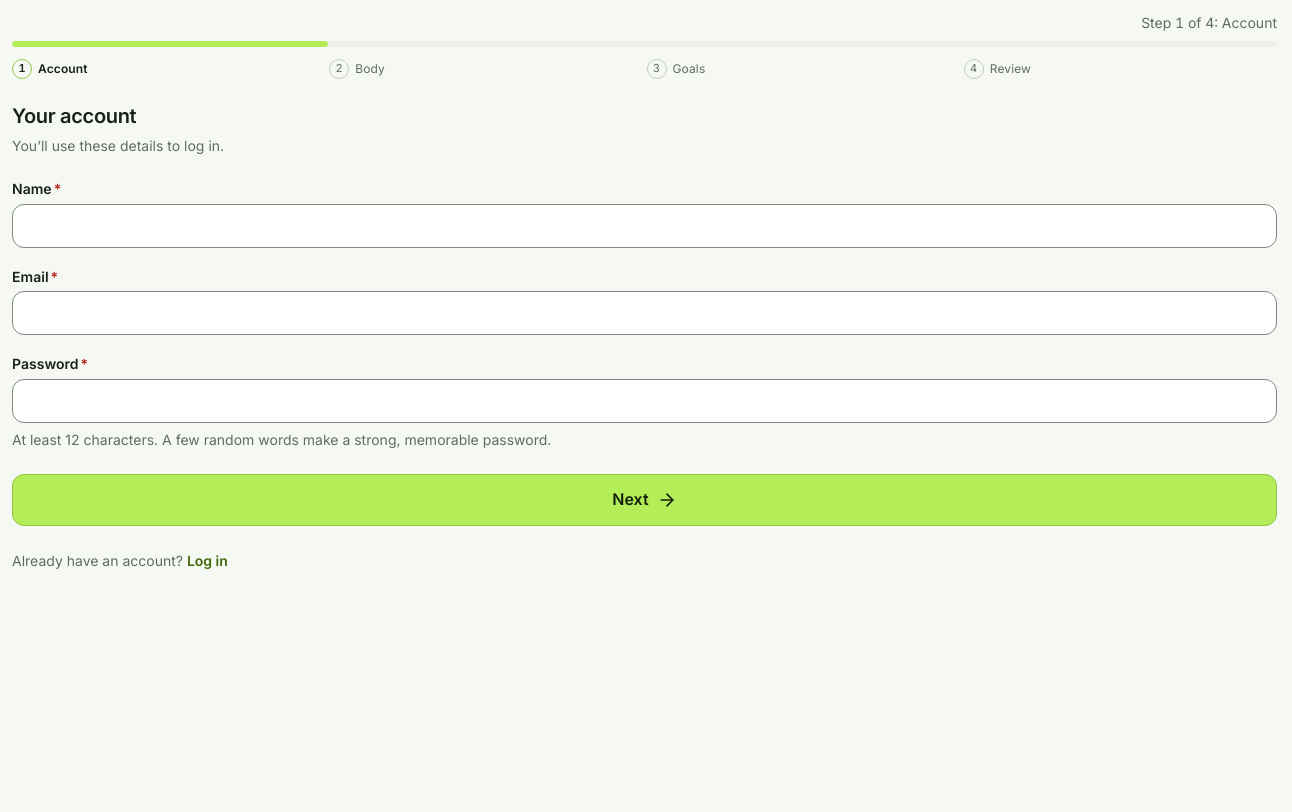
Test case: RegisterForm (multi-step registration with onboarding) › rejects using the email address as the password
Type "Alex" into the field labelled "Name". click: (644, 226)
box: [12,204,1277,248]
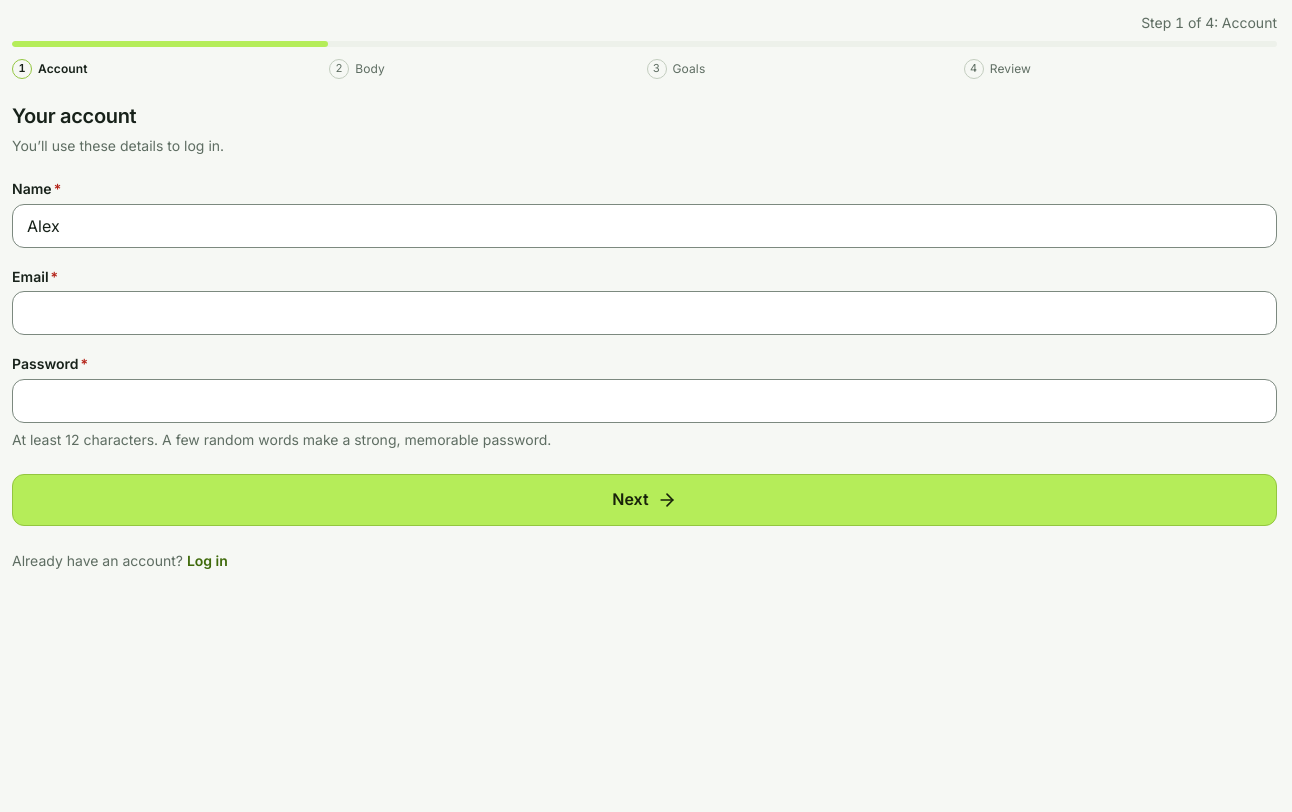
Type "alex@example.com" into the field labelled "Email". click: (644, 313)
box: [12,291,1277,335]
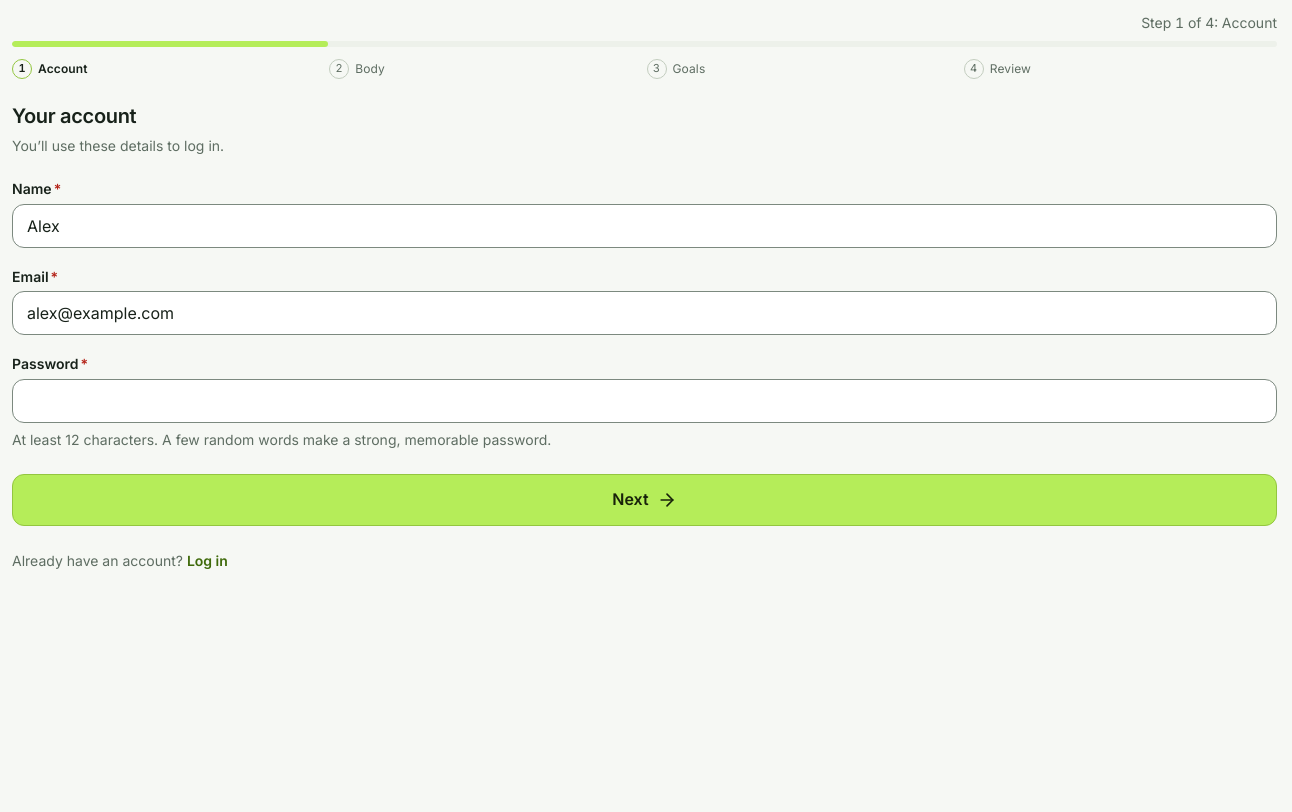
Type "Alex@Example.com" into the password field labelled "Password". click: (644, 400)
box: [12,378,1277,422]
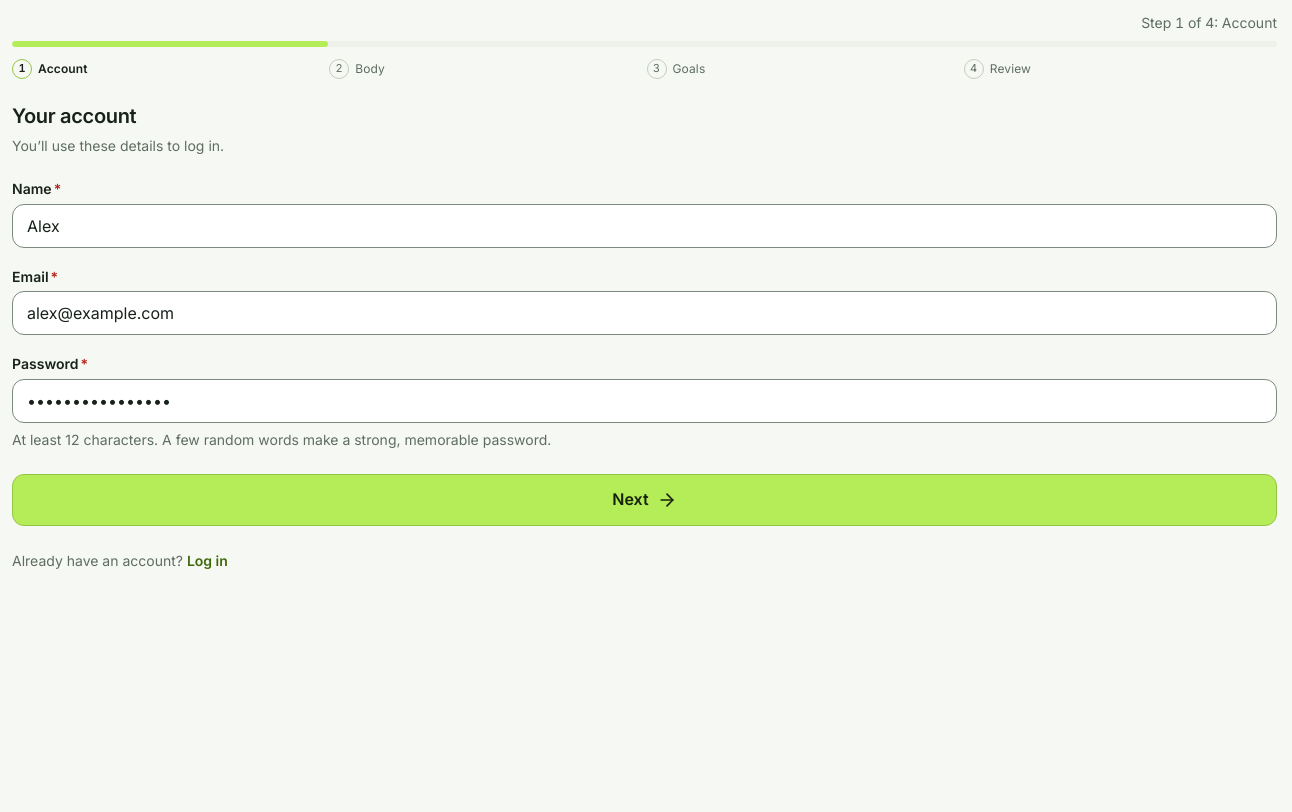
Click the button "Next". click: (644, 500)
box: [12,474,1277,526]
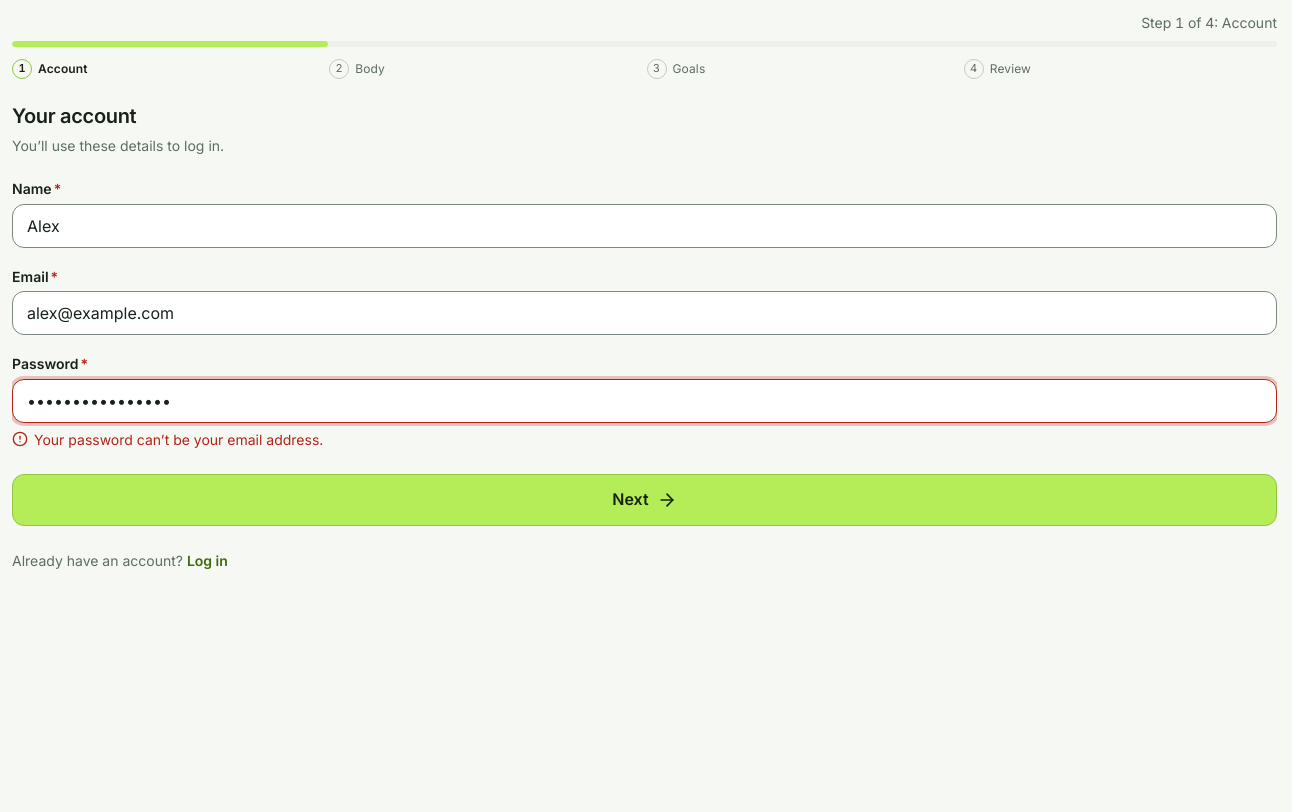
Check: the text "Your password can’t be your email address." is shown, box [34,428,323,450]
